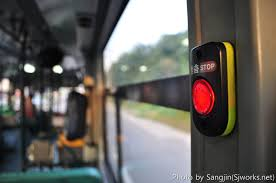bell: (189, 41, 236, 137)
